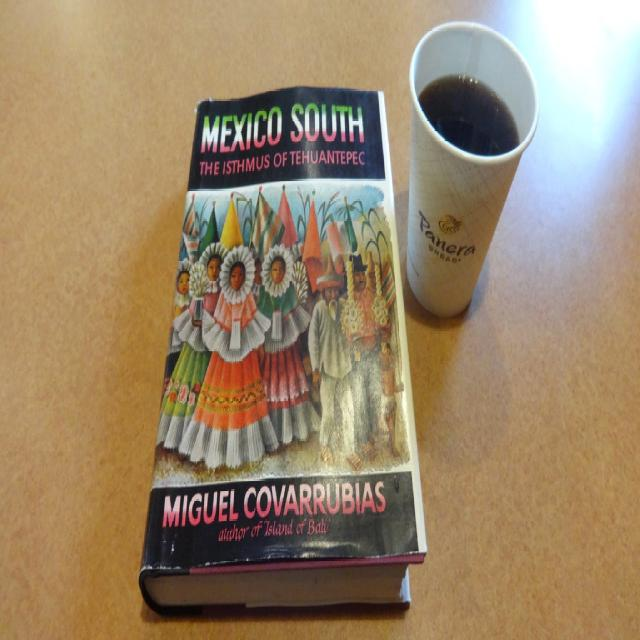Tea: (420, 75, 520, 155)
